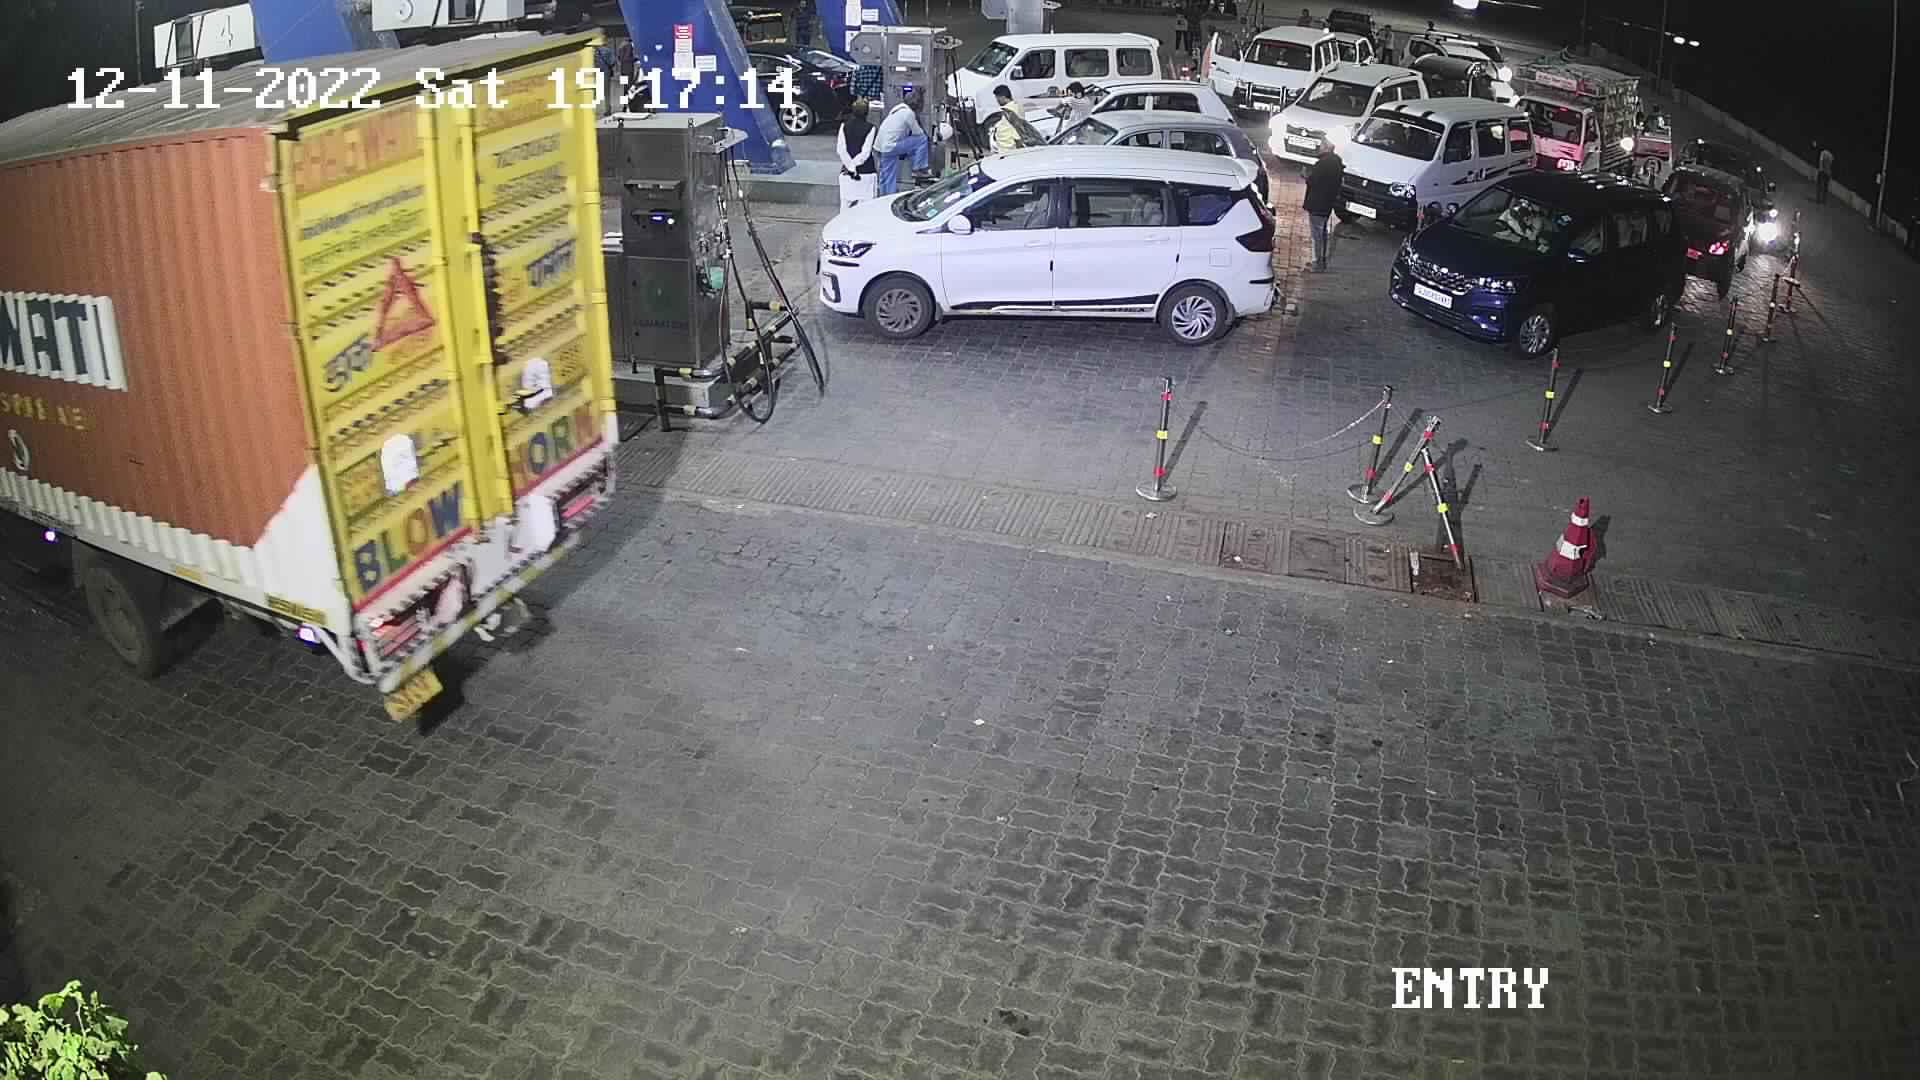Car: (808, 135, 1299, 348), (1369, 153, 1712, 368), (1296, 83, 1559, 239), (939, 12, 1200, 166), (1029, 73, 1258, 216), (1250, 46, 1449, 183), (1200, 8, 1399, 136), (1503, 45, 1669, 185), (1651, 158, 1766, 299), (733, 33, 876, 140), (1680, 120, 1787, 258), (1424, 18, 1523, 95)
HMV: (11, 15, 634, 692)
